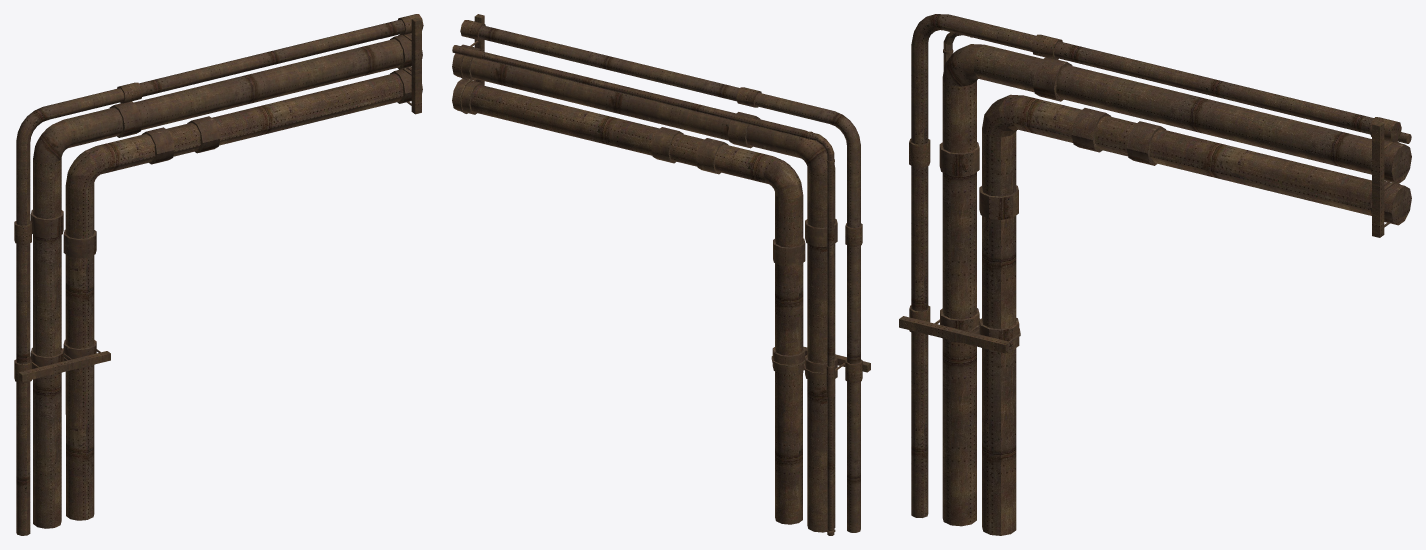
The model's file is pipeset08d_corner128d_001a.glb.
3 views of the same model, side by side, from view 1: azimuth 30°, elevation 25°; view 2: azimuth 150°, elevation 25°; view 3: azimuth 330°, elevation 25° (orthographic). The views are drawn at different scales.
Visible parts, largest first — view 1: 0_pipeset_metal; view 2: 0_pipeset_metal; view 3: 0_pipeset_metal.
Boxes of the visible parts, x1=… form: 0_pipeset_metal: x1=14, y1=14, x2=423, y2=535; 0_pipeset_metal: x1=452, y1=14, x2=870, y2=535; 0_pipeset_metal: x1=899, y1=14, x2=1411, y2=535.
Bounding box in the file's own units: 3.25 × 3.25 × 0.3048.
1 material, 1 textured.
